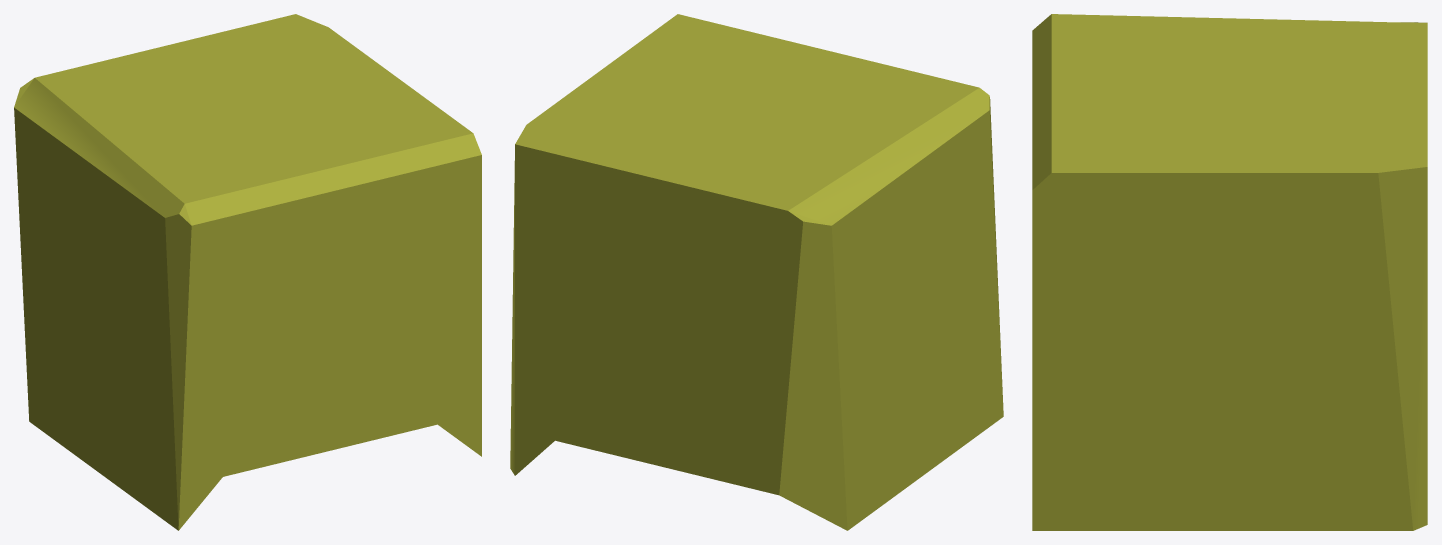
File: 3D_Small_Slider.FBX
The picture shows the model from 3 angles, left to right: view 1: azimuth 30°, elevation 25°; view 2: azimuth 150°, elevation 25°; view 3: azimuth 270°, elevation 25°; orthographic projection. The views are drawn at different scales.
Visible parts, largest first — view 1: 3D_Small_Slider; view 2: 3D_Small_Slider; view 3: 3D_Small_Slider.
Boxes of the visible parts, box(x1,y1,x2,y2) form: 3D_Small_Slider: box(14, 14, 481, 530); 3D_Small_Slider: box(510, 14, 1003, 530); 3D_Small_Slider: box(1032, 14, 1427, 530).
Bounding box in the file's own units: 100 × 100 × 100.
Materials: 1 (1 with a texture image).
